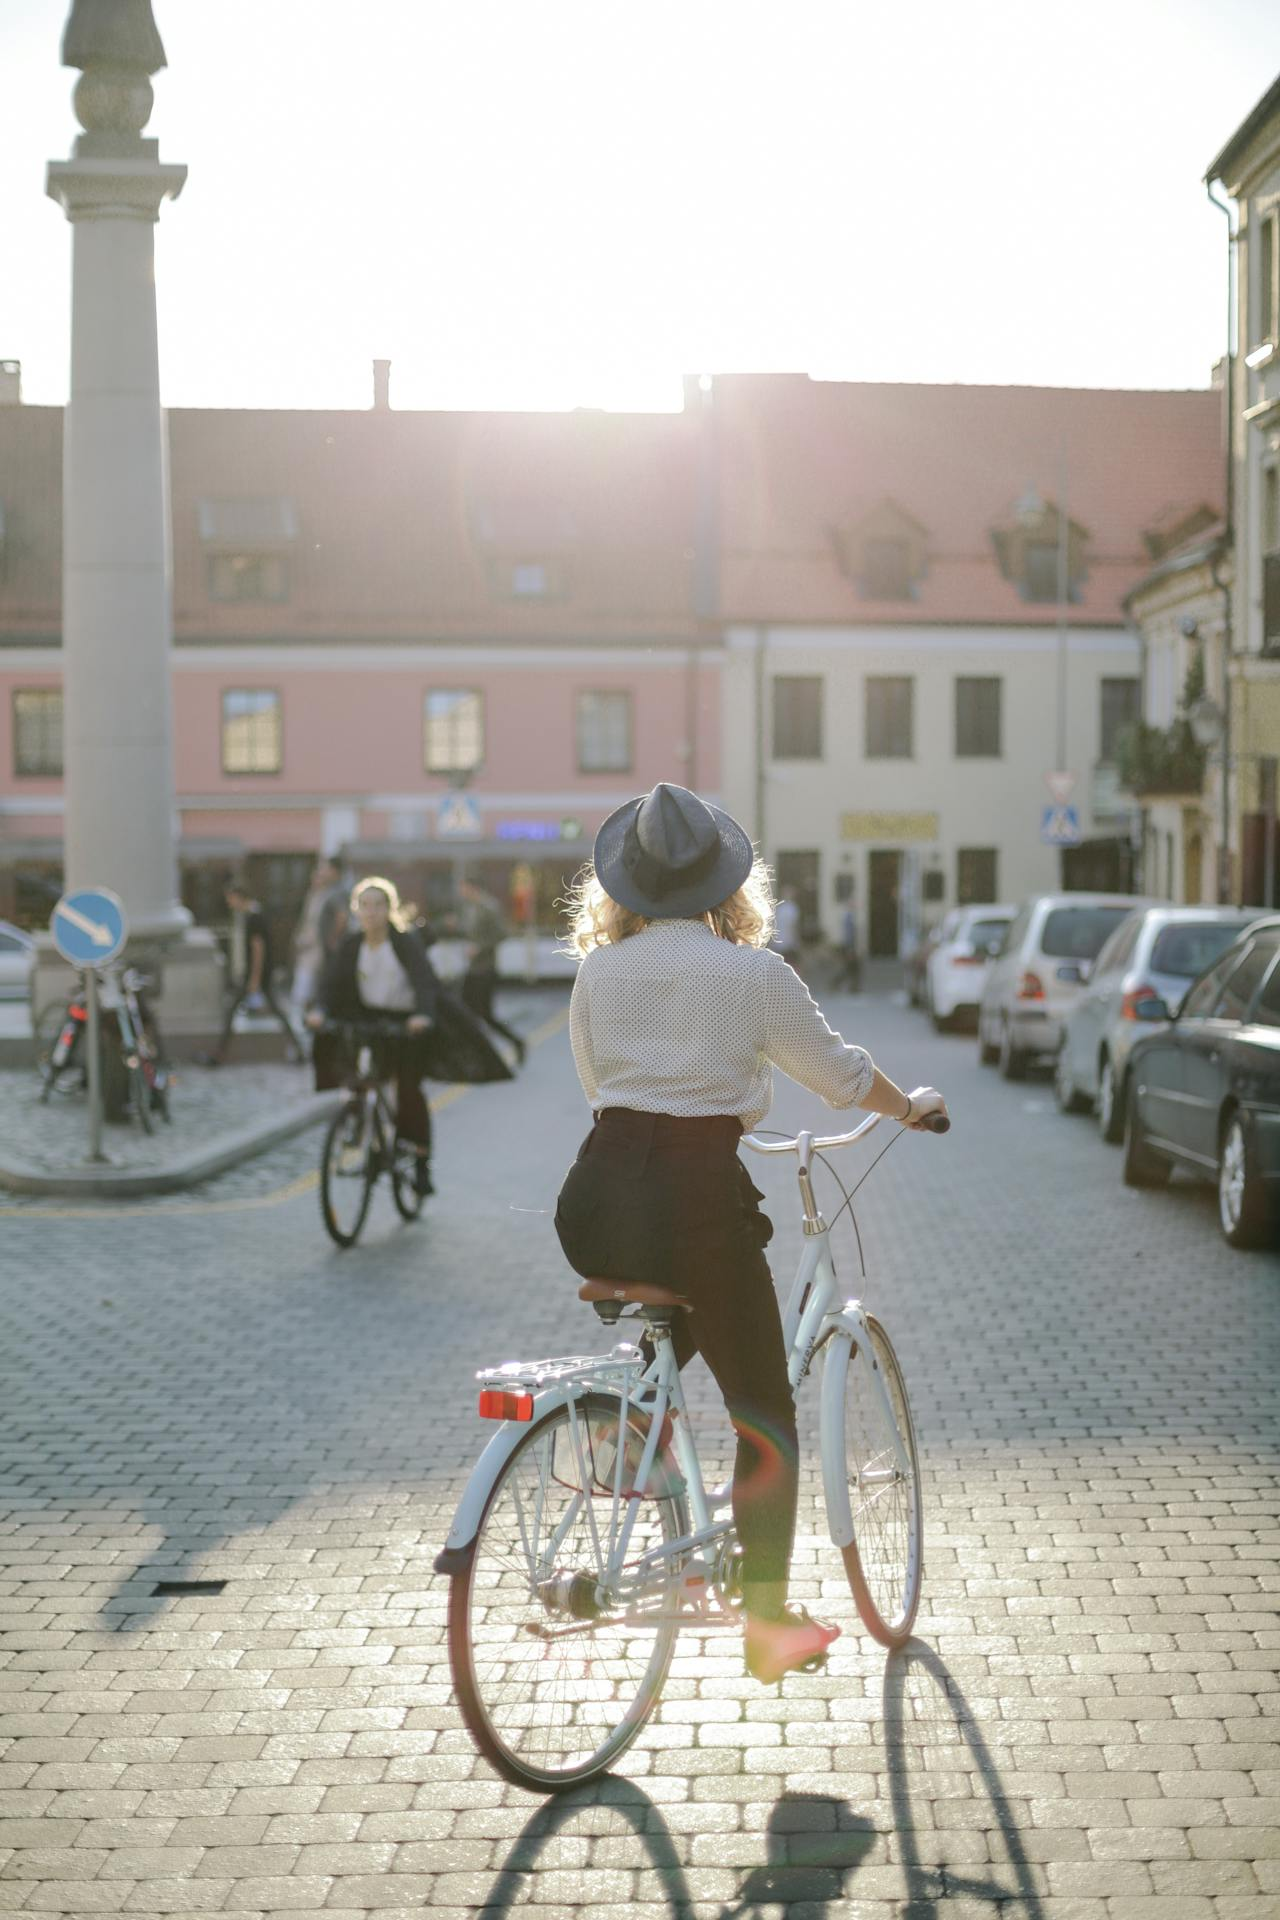bicycle: (393, 1084, 960, 1763)
person: (556, 759, 910, 1657)
